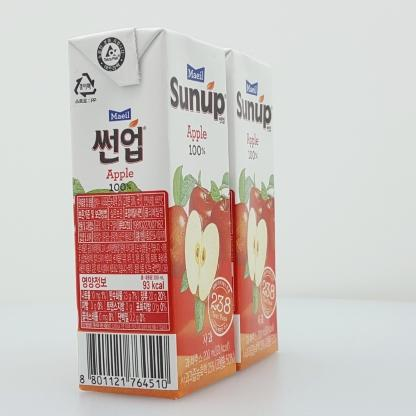-----------200ML: (67, 27, 237, 400)
